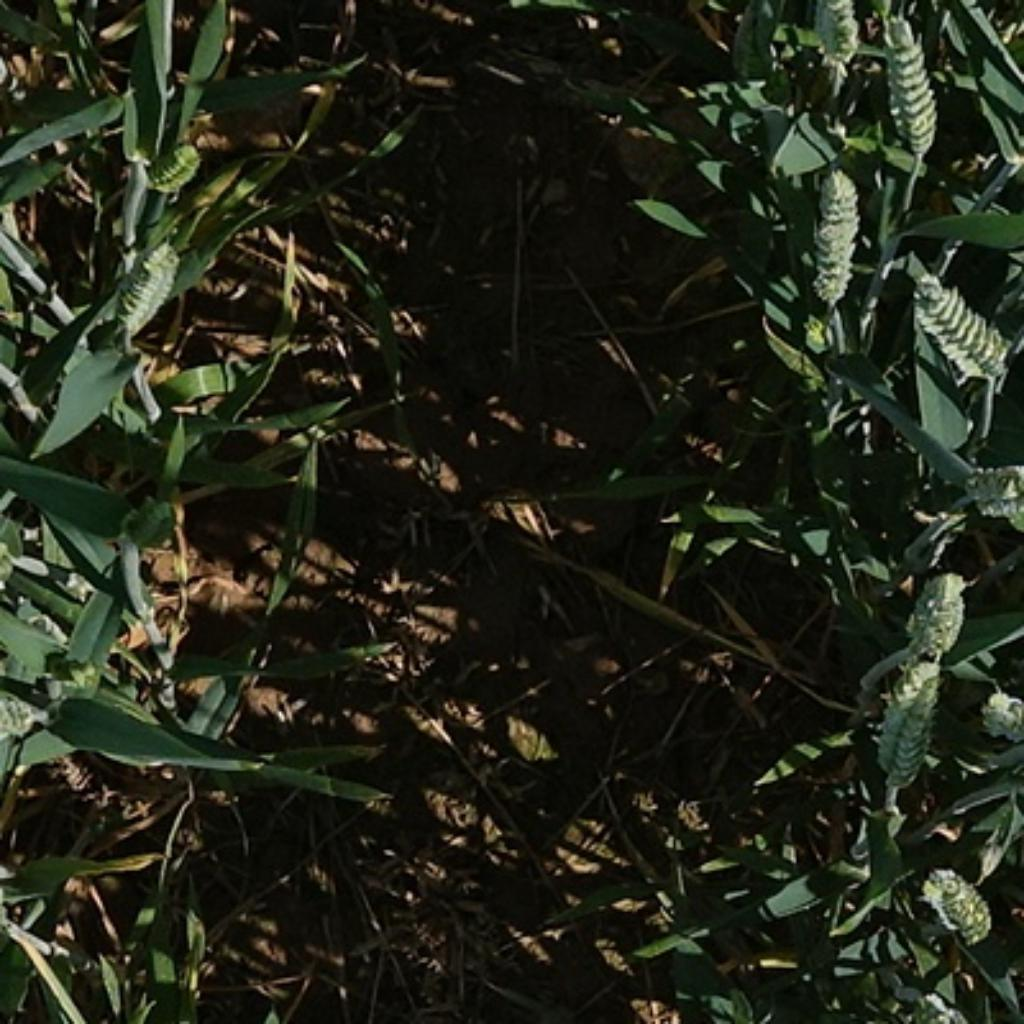0-0: (903, 261, 1021, 396), (862, 655, 944, 788), (875, 10, 942, 161), (808, 172, 865, 309), (896, 565, 975, 657), (116, 237, 186, 332), (918, 867, 996, 946), (38, 646, 112, 712), (116, 496, 193, 558), (958, 463, 1024, 529), (142, 140, 207, 197), (978, 686, 1024, 739), (821, 2, 857, 66)
